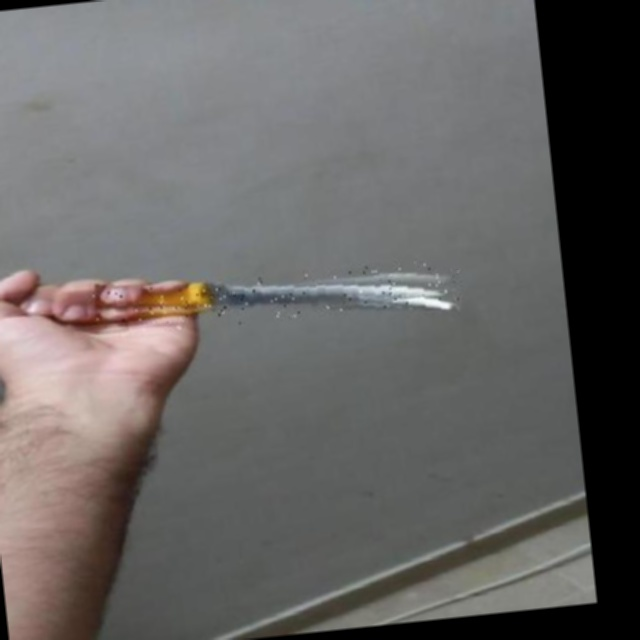Sharp-Object: (93, 256, 462, 339)
